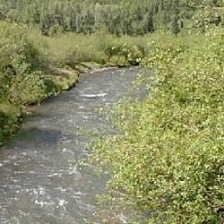neutral: (4, 2, 224, 222)
